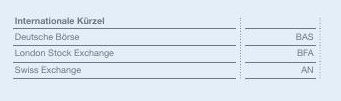table: (0, 0, 341, 101)
